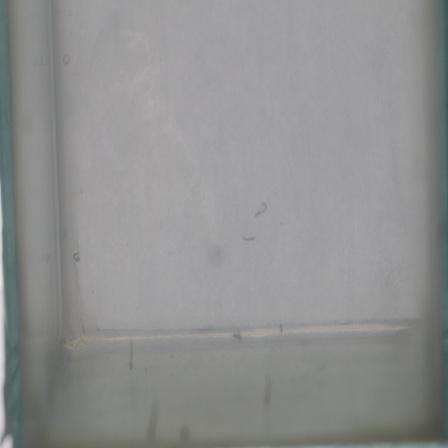Jentik-Nyamuk: (122, 336, 141, 371), (251, 198, 272, 220)
